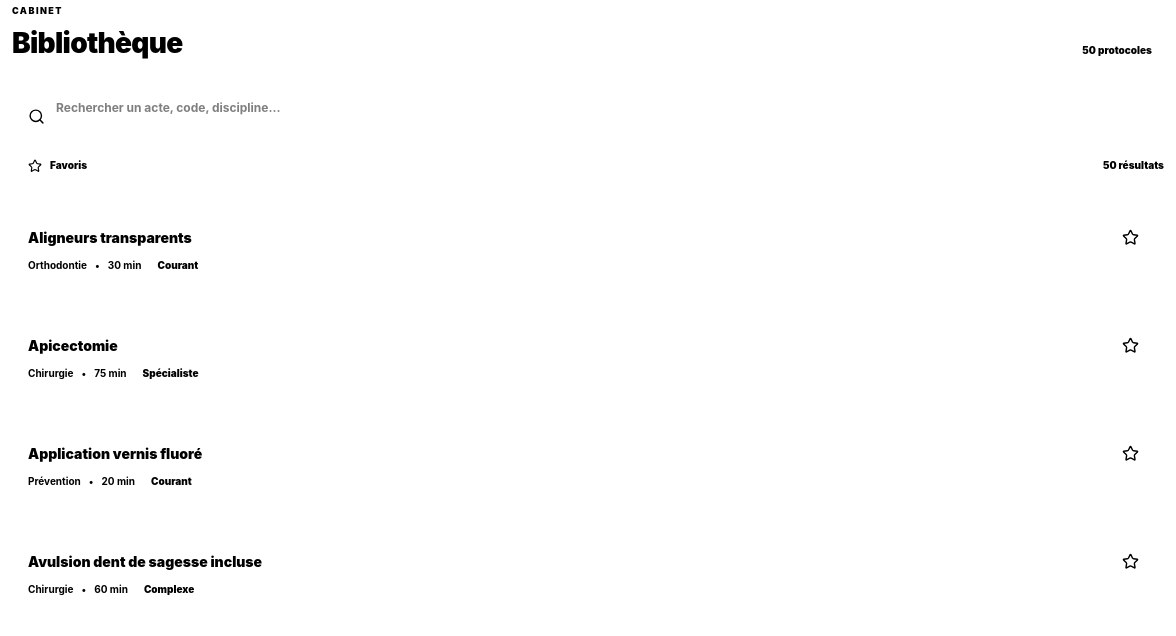
Test case: LibraryView MOB-5E › uses the shared 50-protocol source and searches by existing clinical content
Expected: the text "50 protocoles" is shown, [1082,44,1152,56]
Type "Extraction molaire" into the field with placeholder "Rechercher un acte, code, discipline…". click: [588, 108]
box: [12,84,1164,132]
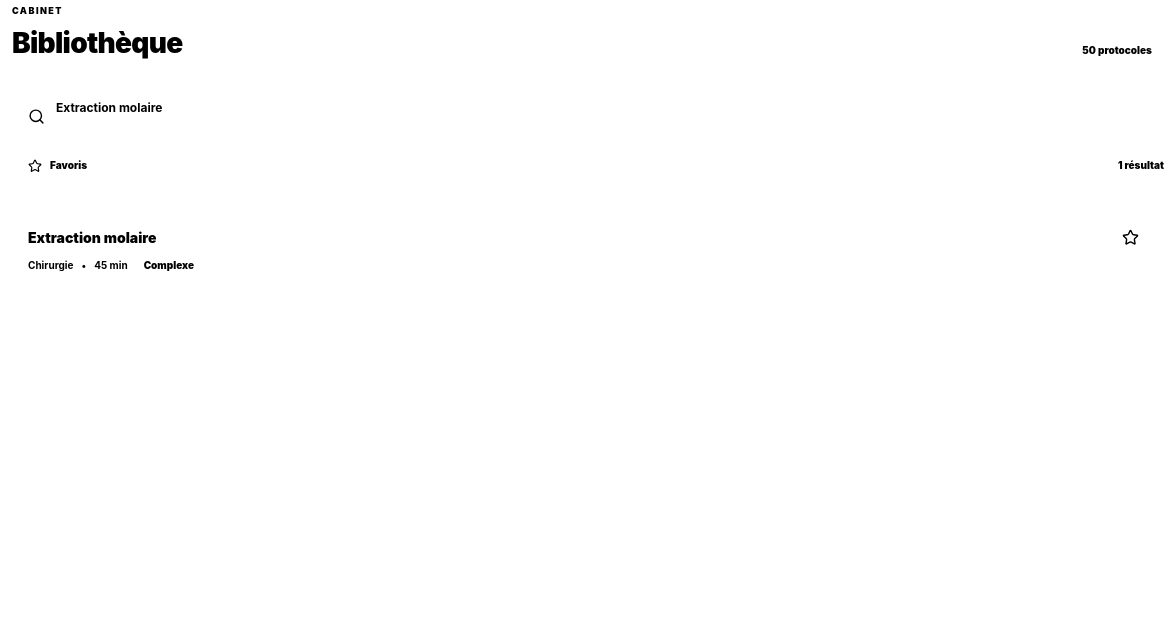
Expected: the heading "Extraction molaire" is shown, [28,229,156,246]
Now the text "1 résultat" is shown, box [1118,158,1164,173]
